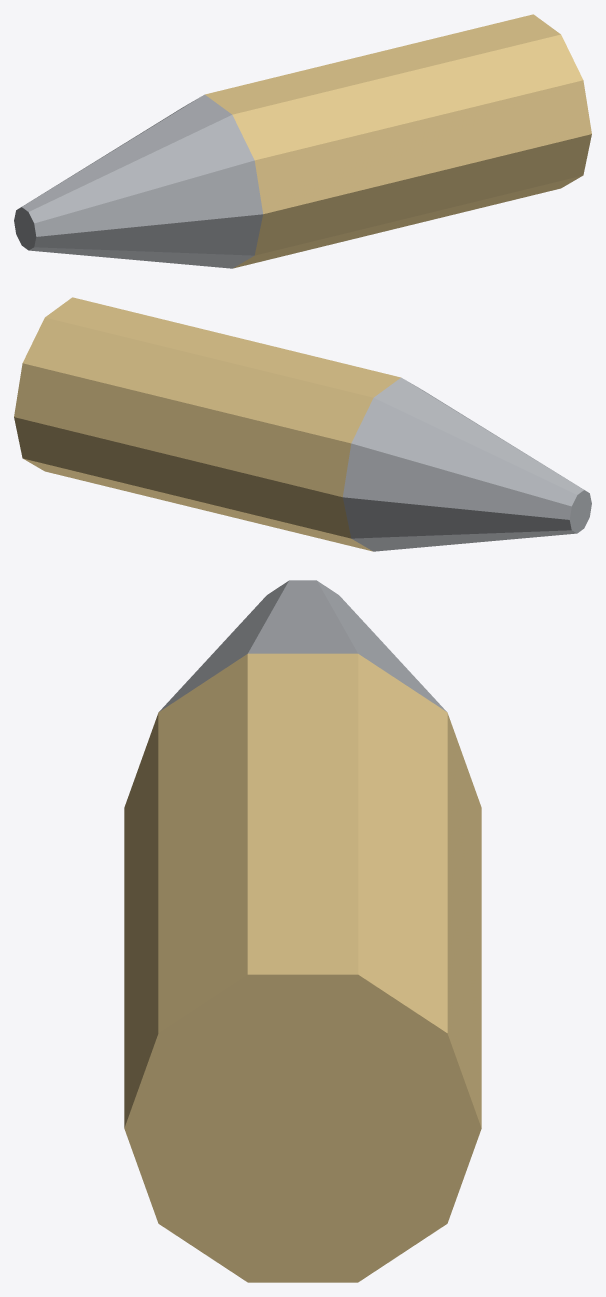
3 views of the same model, one above another, from view 1: azimuth 30°, elevation 25°; view 2: azimuth 150°, elevation 25°; view 3: azimuth 270°, elevation 25° (orthographic). The views are drawn at different scales.
Visible parts, largest first — view 1: B_762x54R_Body, B_762x54R_Tip; view 2: B_762x54R_Body, B_762x54R_Tip; view 3: B_762x54R_Body, B_762x54R_Tip.
Boxes of the visible parts, bbox=[...] form: B_762x54R_Body: bbox=[205, 14, 591, 268]; B_762x54R_Tip: bbox=[14, 94, 263, 268]; B_762x54R_Body: bbox=[14, 297, 400, 551]; B_762x54R_Tip: bbox=[342, 377, 591, 551]; B_762x54R_Body: bbox=[124, 653, 481, 1282]; B_762x54R_Tip: bbox=[159, 580, 446, 711].
Bounding box in the file's own units: 0.054 × 0.0152 × 0.016.
